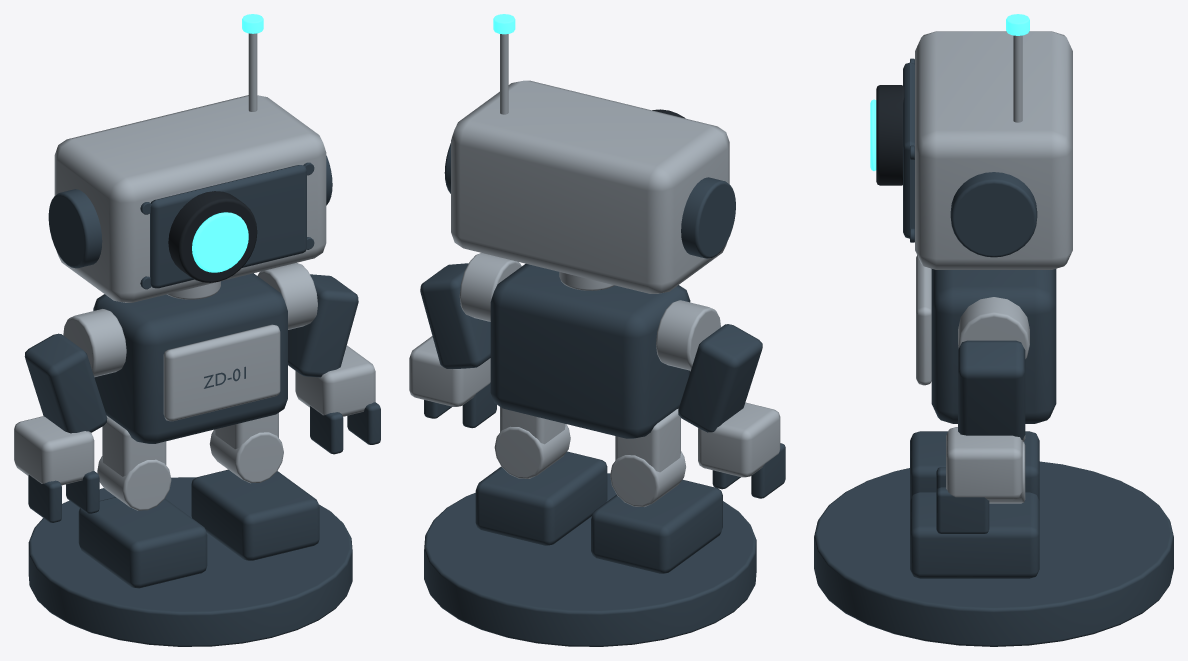
The model's file is MaintenanceRobot_Mascot.fbx.
3 views of the same model, side by side, from view 1: azimuth 30°, elevation 25°; view 2: azimuth 150°, elevation 25°; view 3: azimuth 270°, elevation 25° (orthographic). The views are drawn at different scales.
Parts seen in each view (by area): view 1: MaintenanceRobot_Mascot.001; view 2: MaintenanceRobot_Mascot.001; view 3: MaintenanceRobot_Mascot.001.
Boxes of the visible parts, box(x1,y1,x2,y2) form: MaintenanceRobot_Mascot.001: box(14, 14, 380, 646); MaintenanceRobot_Mascot.001: box(409, 14, 785, 646); MaintenanceRobot_Mascot.001: box(814, 14, 1173, 646).
Size of the model in its own units: 17.8 by 27.3 by 15.
